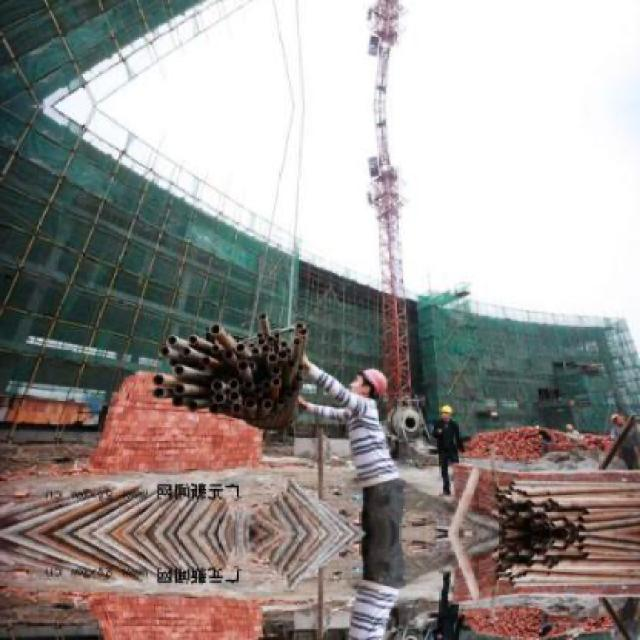con casco: (316, 354, 392, 411)
